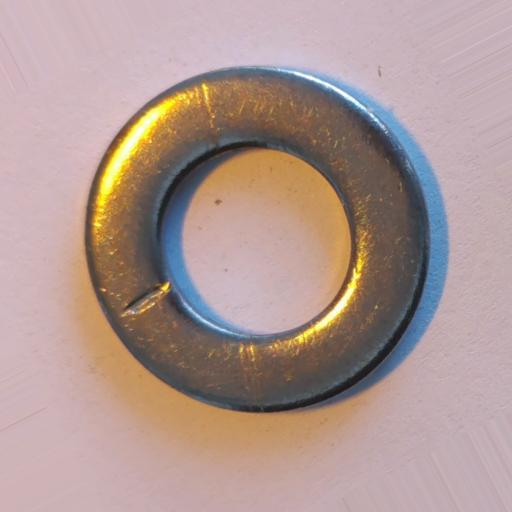scratch: (120, 281, 174, 318)
